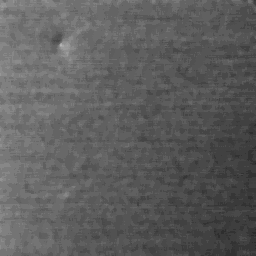dent: (46, 29, 70, 55)
